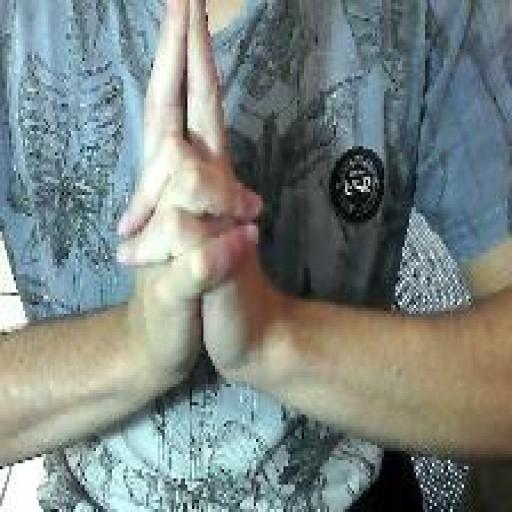Tora -tiger-: (113, 0, 266, 396)
